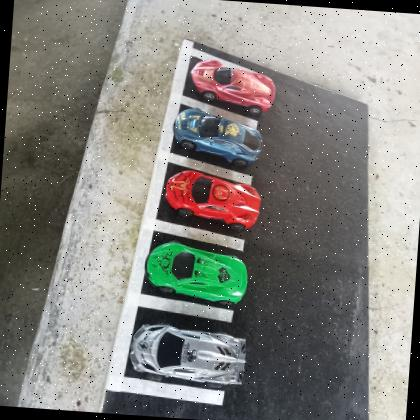Car: (128, 320, 248, 389), (147, 240, 249, 306), (163, 169, 262, 230), (170, 106, 264, 168), (188, 57, 276, 116)
